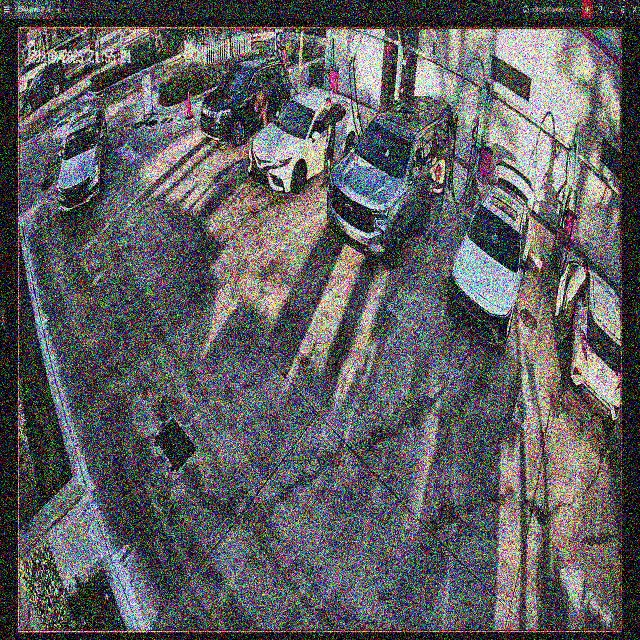Car: (330, 96, 449, 266), (448, 159, 532, 352), (249, 96, 361, 205), (204, 58, 289, 154)
